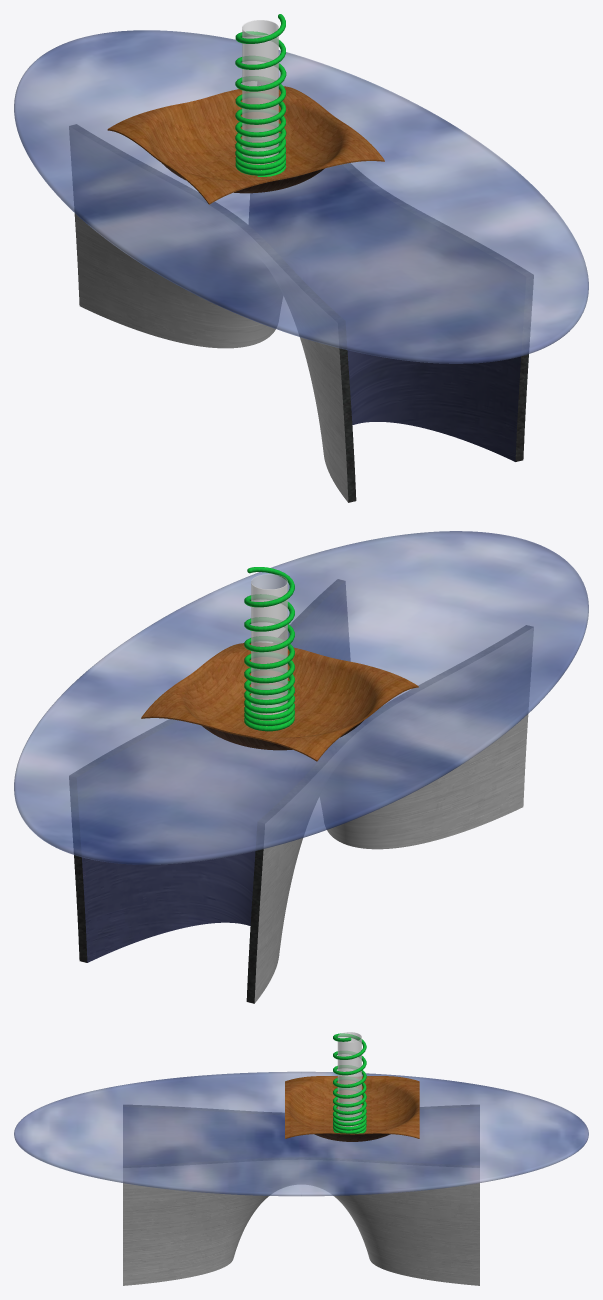
Rendered from mesa-principal.glb.
3 renders of one model, top to bottom at view 1: azimuth 30°, elevation 25°; view 2: azimuth 150°, elevation 25°; view 3: azimuth 270°, elevation 25°, orthographic. The views are drawn at different scales.
Visible parts, largest first — view 1: Material2 (×8); view 2: Material2 (×8); view 3: Material2 (×8).
Part boxes in pixels (<box>): Material2 (×8): <box>14,14,588,502</box>; Material2 (×8): <box>14,531,588,1003</box>; Material2 (×8): <box>14,1032,588,1285</box>.
Size of the model in its own units: 73.01 by 62.54 by 145.
Materials: 9 (7 with a texture image).
